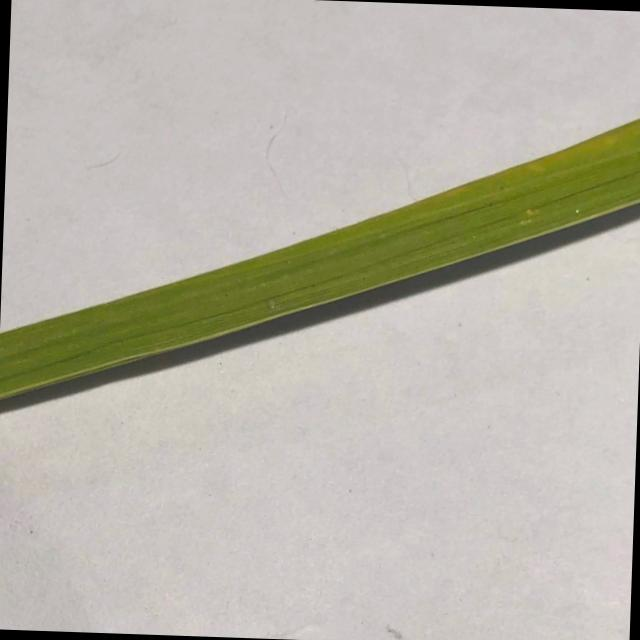Rice_Healthy: (0, 118, 640, 398)
